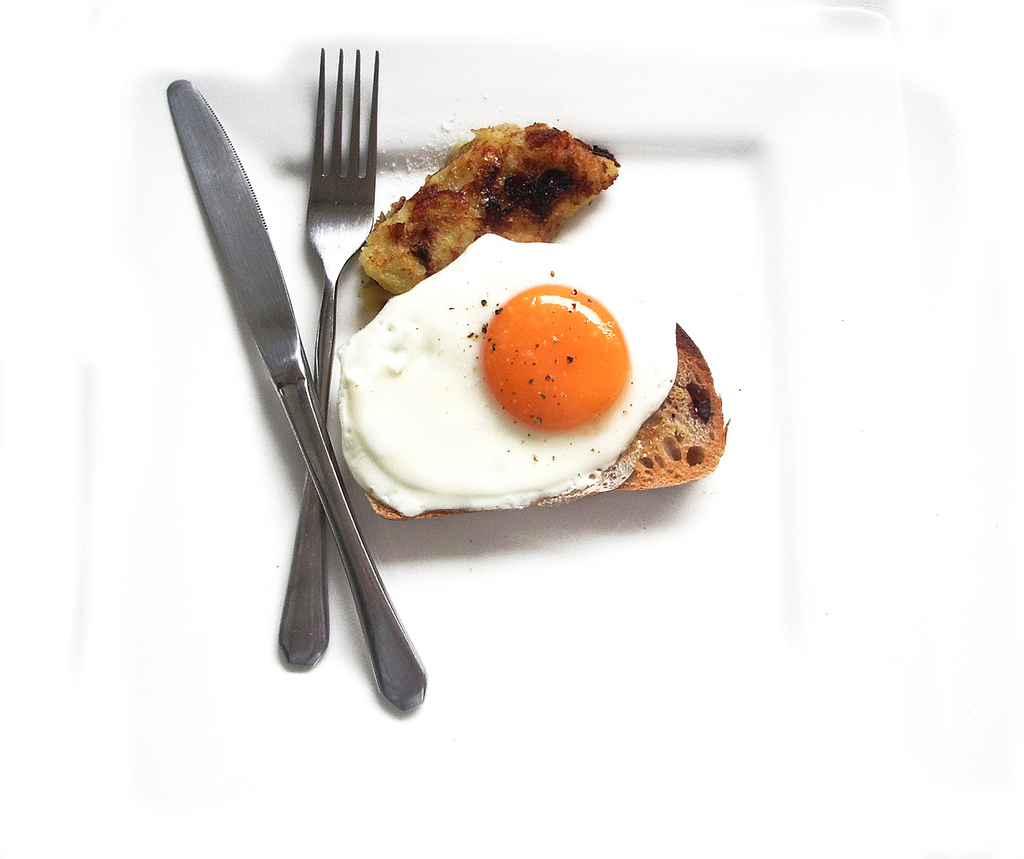fried egg: (347, 285, 681, 480)
